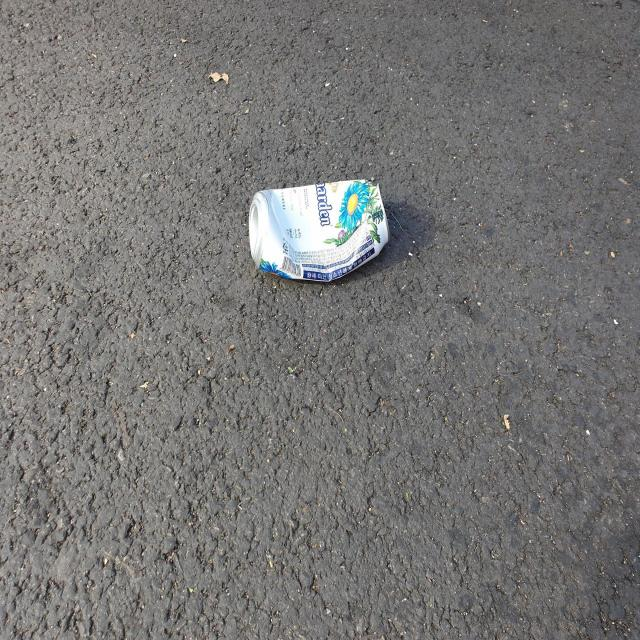can: (249, 179, 389, 281)
